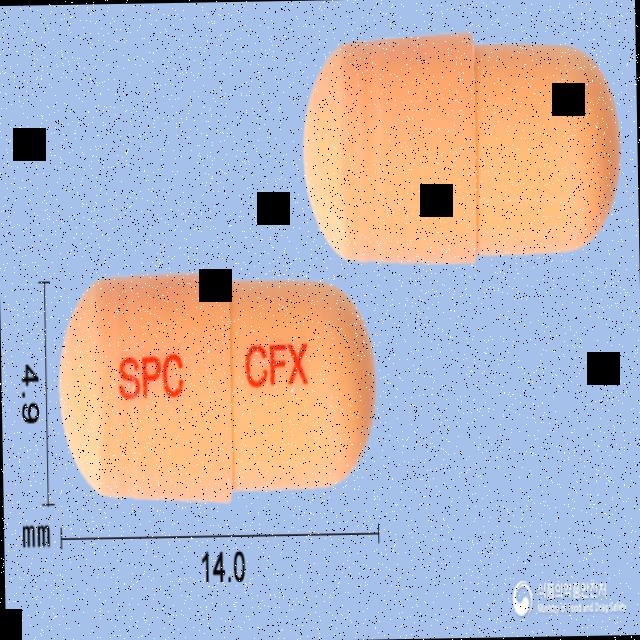Seoul Cefixime Cap: (57, 270, 378, 506)
